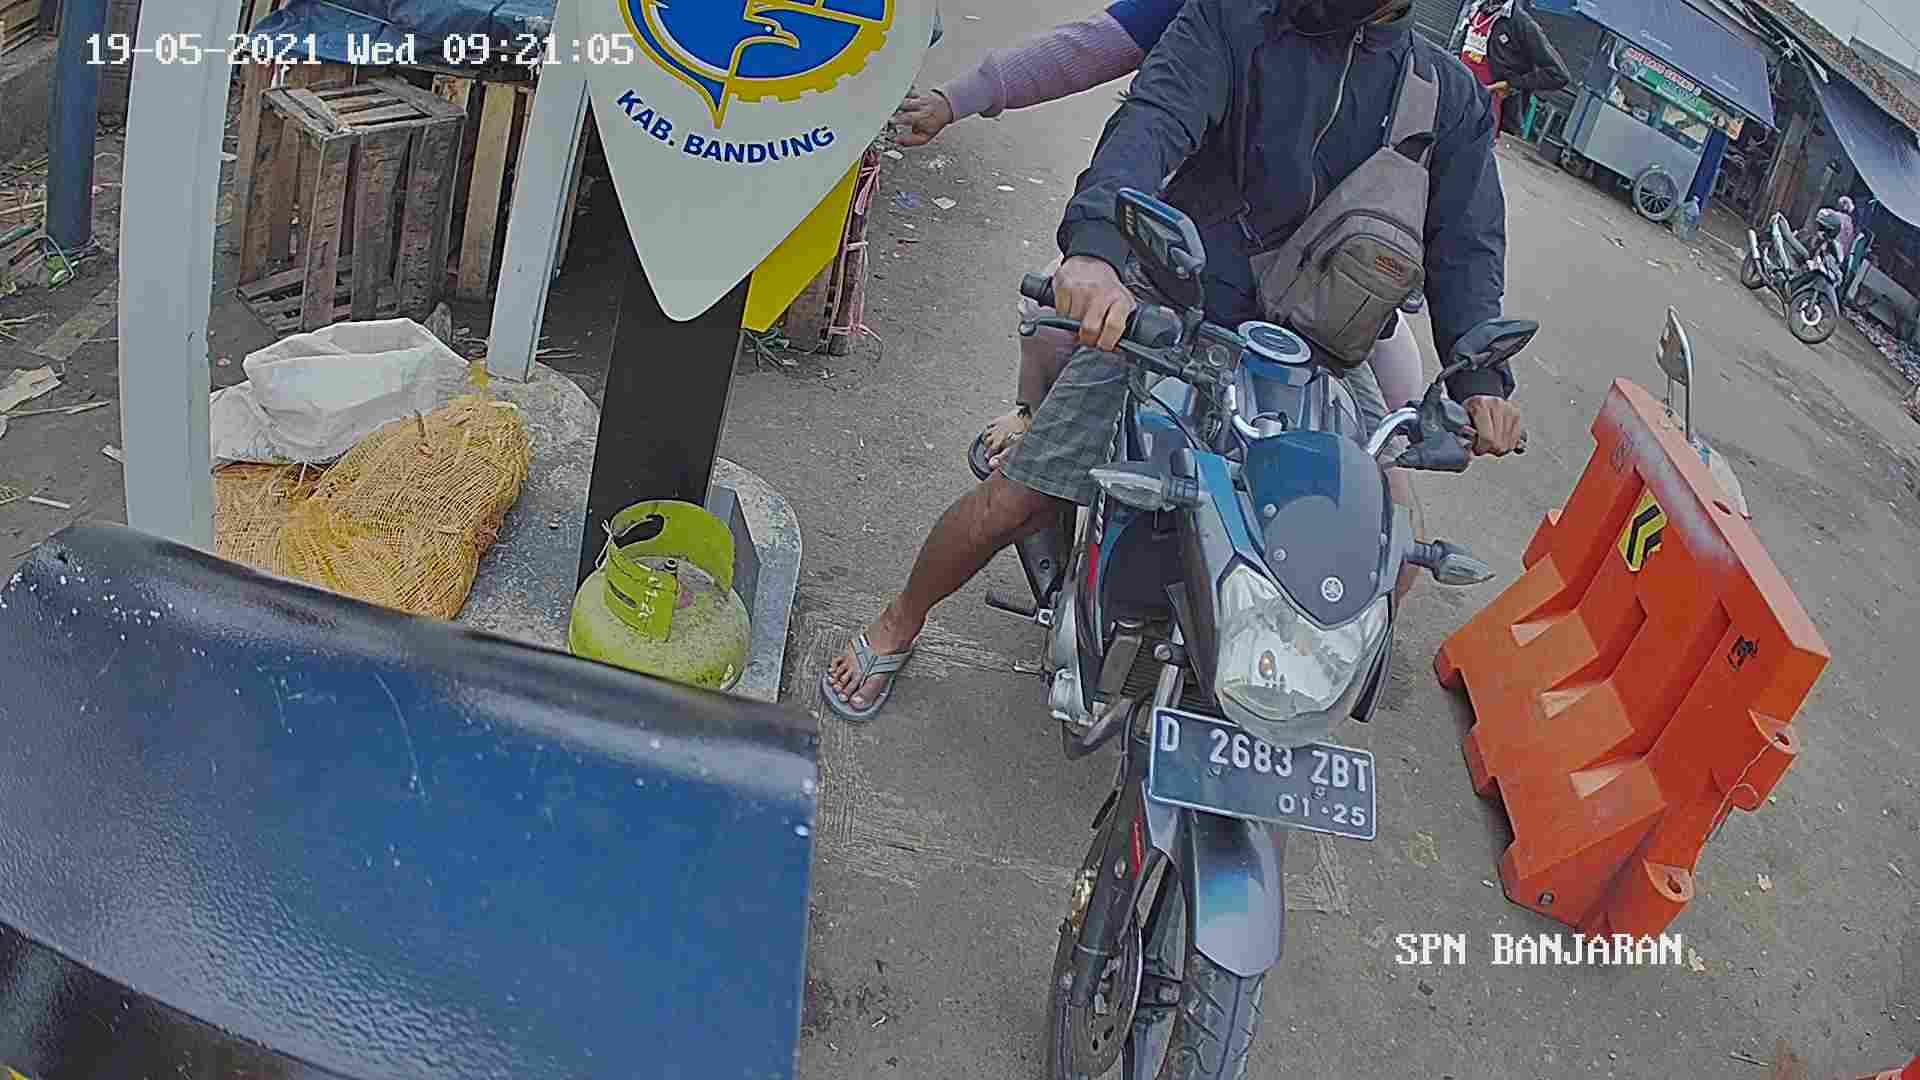motor: (992, 338, 1433, 1080)
